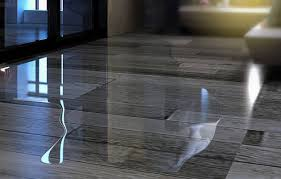Wet-floor: (0, 1, 281, 179)
